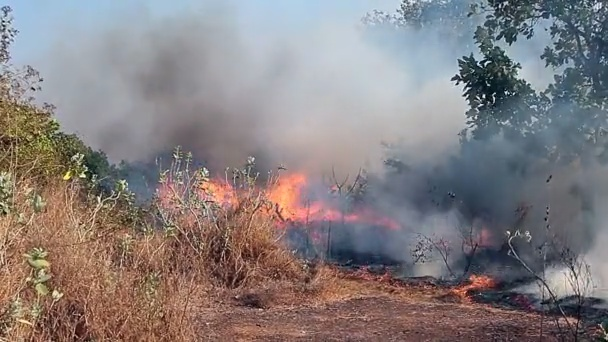fire: (266, 180, 299, 217), (200, 179, 232, 211), (62, 170, 71, 180)
